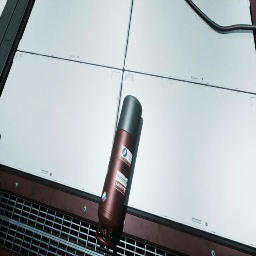NitrogenTank ,: (94, 95, 142, 249)
